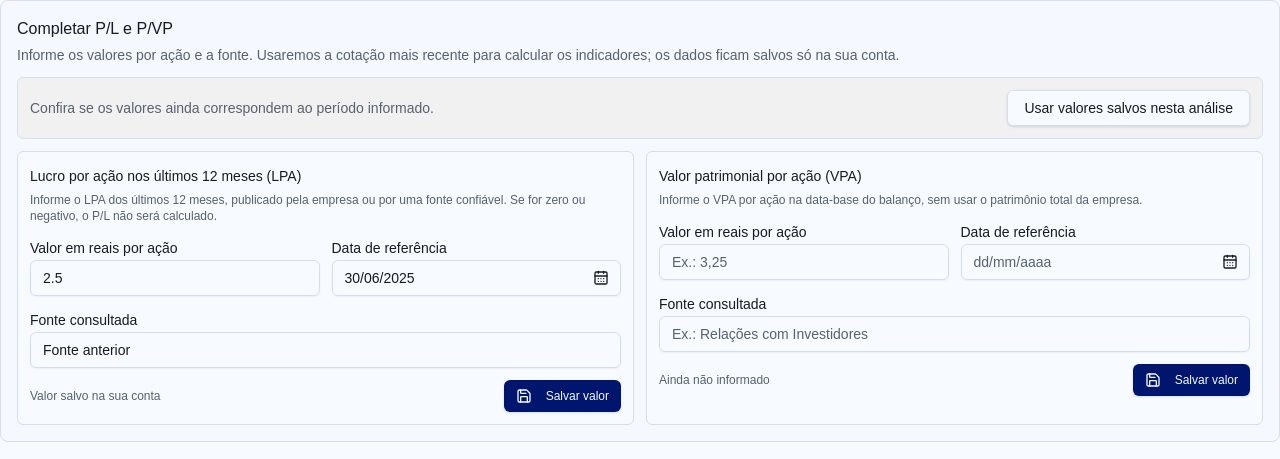
ManualStockValuationInputs › requires confirmation before applying previously saved values
Click the button "Usar valores salvos nesta análise": (1129, 108) [1008, 90, 1250, 126]
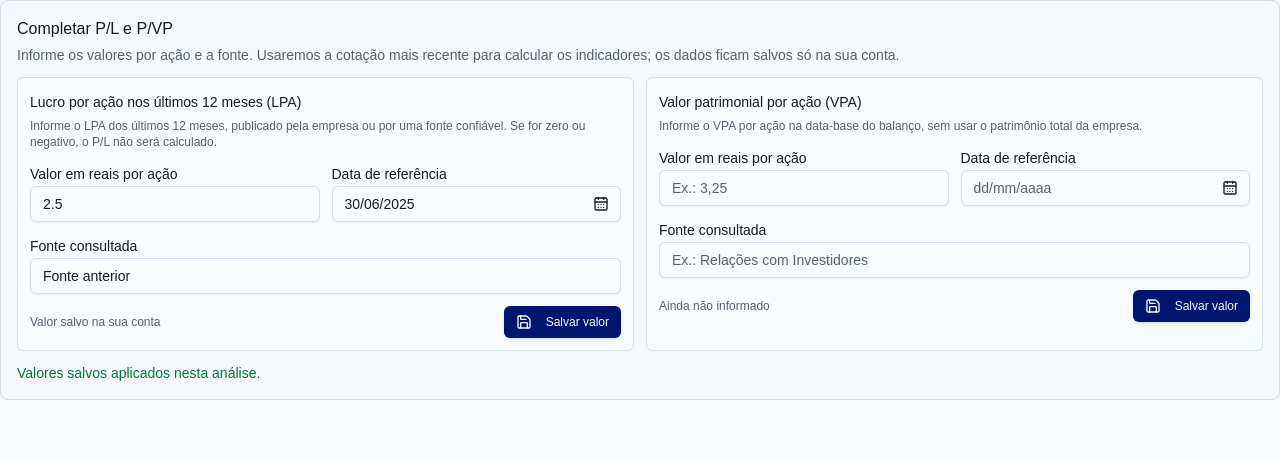
expect the text "Valores salvos aplicados nesta análise." is shown: met, box [17, 365, 260, 381]
